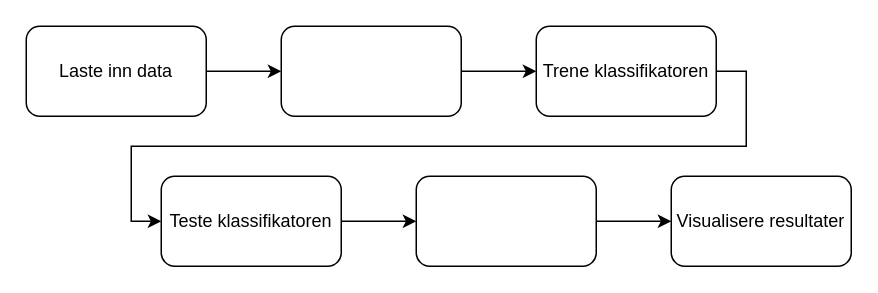
This 878x293 diagram has some shape labels left out. The shapes that lost their labels are listed below. From the top down, each one's centre as x and y in pixels, then its label:
At (x=370, y=70): "Preallokere variable".
At (x=505, y=220): "Evaluere klassifikatoren".
